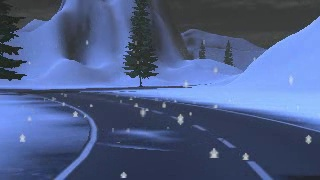Lane: (32, 86, 319, 179)
